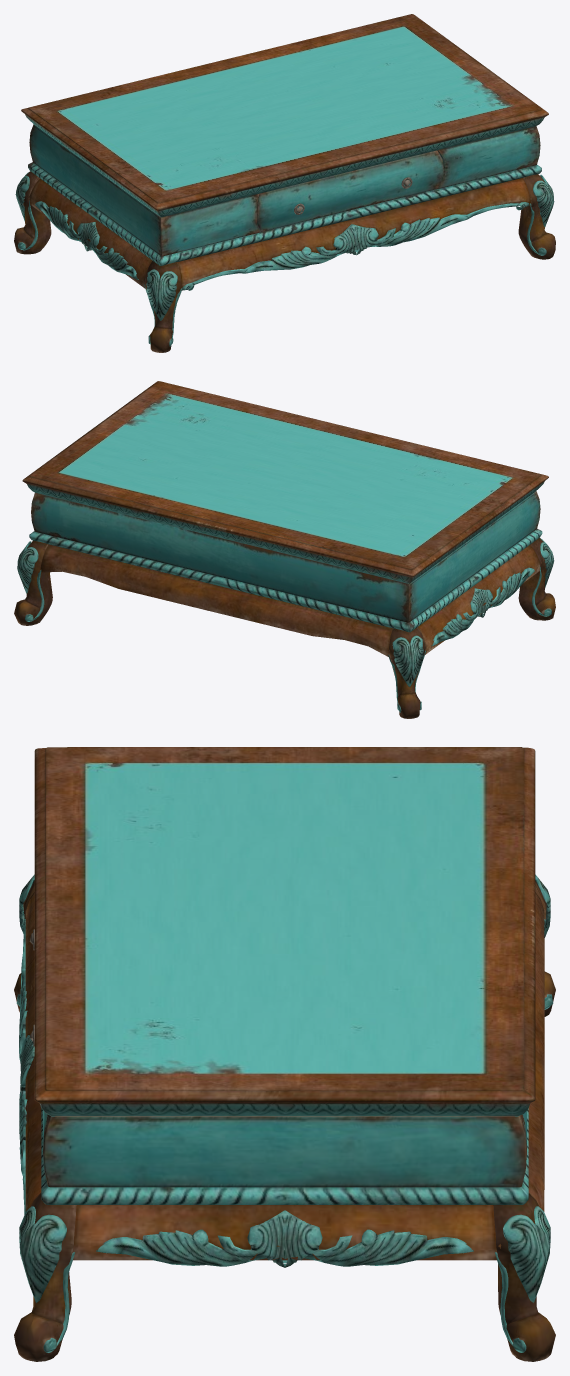
File: CoffeeTable_01_1k.glb
3 views of the same model, one above another, from view 1: azimuth 30°, elevation 25°; view 2: azimuth 150°, elevation 25°; view 3: azimuth 270°, elevation 25° (orthographic). The views are drawn at different scales.
Visible parts, largest first — view 1: CoffeeTable_01; view 2: CoffeeTable_01; view 3: CoffeeTable_01.
Boxes of the visible parts, x1,y1,x2,y2 form: CoffeeTable_01: (14, 14, 555, 352); CoffeeTable_01: (14, 381, 555, 718); CoffeeTable_01: (14, 747, 555, 1361).
Bounding box in the file's own units: 1.54 × 0.5232 × 0.9724.
Materials: 1 (1 with a texture image).
